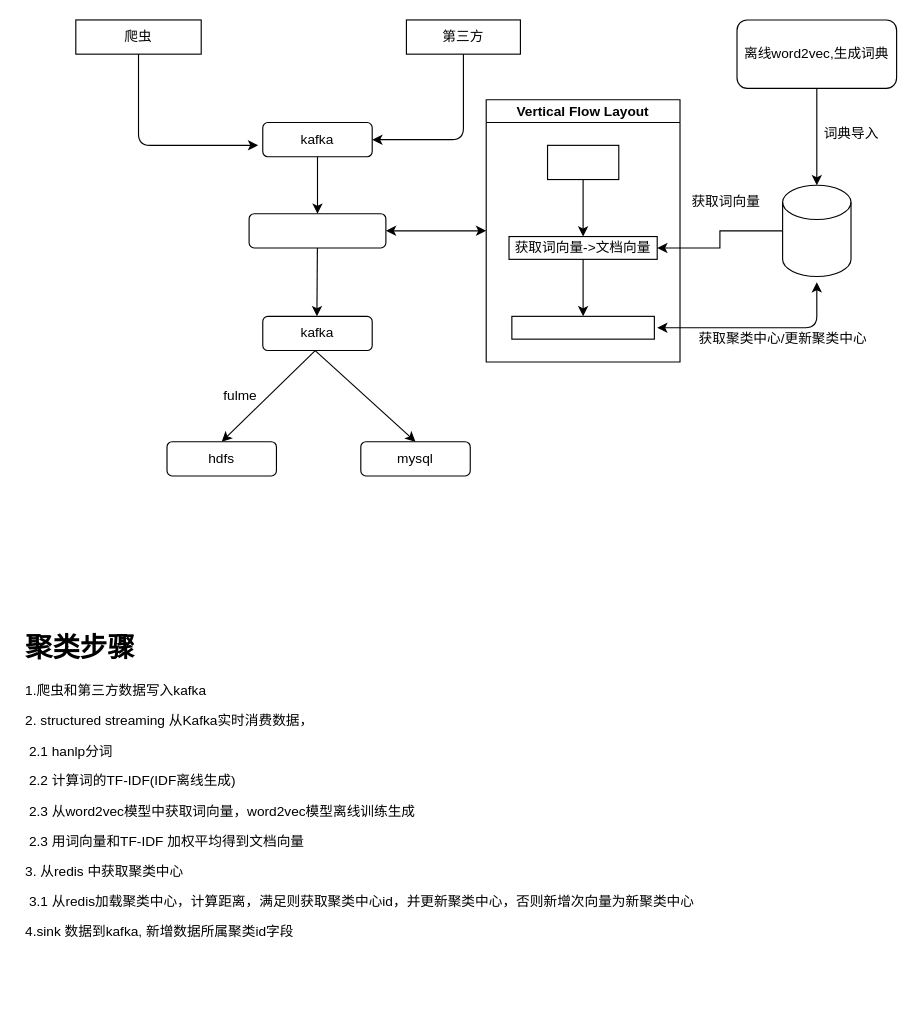
This 917x1010 diagram has some shape labels left out. The centre of each missing label's shape, as x and y in pixels:
"hanlp分词" goes at point 582,162.
"redis" goes at point 816,230.
"structured streaming" goes at point 317,230.
"获取聚类中心计算距离" goes at point 582,327.
